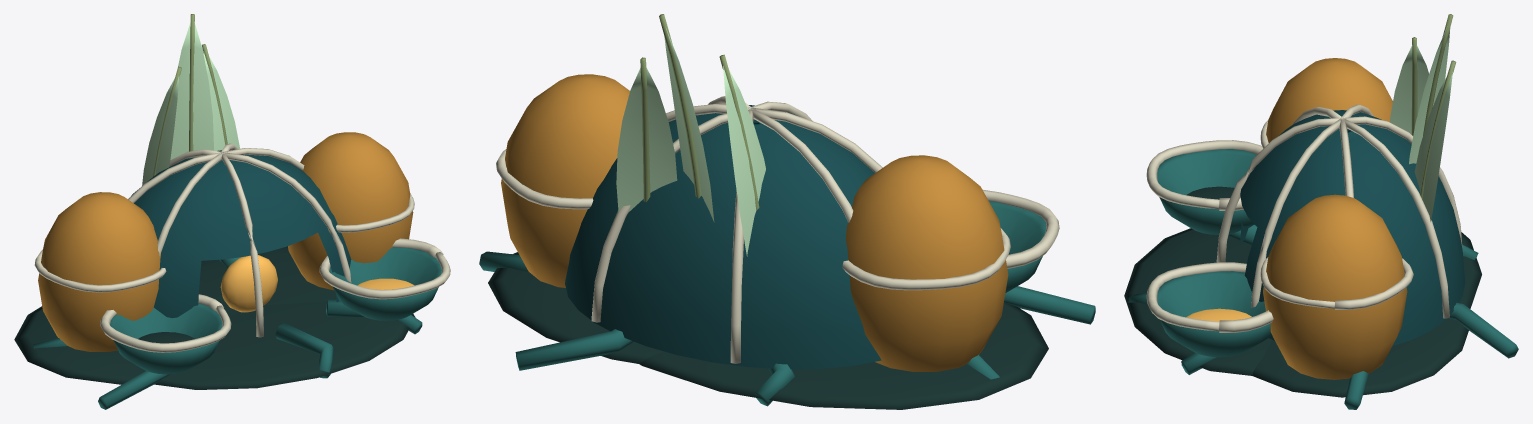
Rendered from building_resin_curing_a.obj.
3 renders of one model, left to right at view 1: azimuth 30°, elevation 25°; view 2: azimuth 150°, elevation 25°; view 3: azimuth 270°, elevation 25°, orthographic. The views are drawn at different scales.
Parts seen in each view (by area): view 1: inhabited_shell.025, processing_side_sac.008, irregular_anchoring_lobe.101, processing_side_sac.009, irregular_anchoring_lobe.099, open_living_cup.102, open_living_cup.101, bent_living_blade.112, irregular_anchoring_lobe.100, warm_occupied_cavity.025, grown_cup_lip.102, grown_cup_lip.101 (+15 smaller); view 2: inhabited_shell.025, processing_side_sac.008, processing_side_sac.009, irregular_anchoring_lobe.099, irregular_anchoring_lobe.100, bent_living_blade.113, bent_living_blade.111, anchoring_root.232, open_living_cup.101, bent_living_blade.112, sac_growth_band.008, anchoring_root.235 (+11 smaller); view 3: processing_side_sac.009, inhabited_shell.025, irregular_anchoring_lobe.101, irregular_anchoring_lobe.100, open_living_cup.102, processing_side_sac.008, open_living_cup.101, grown_cup_lip.102, grown_cup_lip.101, bent_living_blade.113, growth_seam.176, sac_growth_band.009 (+15 smaller).
Boxes of the visible parts, left/top/right/bottom form: inhabited_shell.025: left=131, top=149, right=351, bottom=318; processing_side_sac.008: left=38, top=192, right=160, bottom=351; irregular_anchoring_lobe.101: left=154, top=302, right=415, bottom=389; processing_side_sac.009: left=288, top=132, right=413, bottom=290; irregular_anchoring_lobe.099: left=14, top=278, right=238, bottom=384; open_living_cup.102: left=329, top=247, right=441, bottom=320; open_living_cup.101: left=110, top=303, right=222, bottom=374; bent_living_blade.112: left=170, top=22, right=213, bottom=159; irregular_anchoring_lobe.100: left=200, top=247, right=336, bottom=305; warm_occupied_cavity.025: left=220, top=255, right=277, bottom=312; grown_cup_lip.102: left=319, top=238, right=450, bottom=299; grown_cup_lip.101: left=100, top=294, right=231, bottom=352; inhabited_shell.025: left=565, top=105, right=881, bottom=369; processing_side_sac.008: left=846, top=155, right=1008, bottom=371; processing_side_sac.009: left=501, top=74, right=629, bottom=287; irregular_anchoring_lobe.099: left=639, top=302, right=1048, bottom=409; irregular_anchoring_lobe.100: left=488, top=252, right=663, bottom=363; bent_living_blade.113: left=616, top=67, right=677, bottom=211; bent_living_blade.111: left=723, top=66, right=765, bottom=256; anchoring_root.232: left=515, top=329, right=633, bottom=370; open_living_cup.101: left=989, top=201, right=1046, bottom=292; bent_living_blade.112: left=664, top=28, right=714, bottom=222; sac_growth_band.008: left=842, top=228, right=1010, bottom=290; anchoring_root.235: left=1004, top=286, right=1095, bottom=324; processing_side_sac.009: left=1263, top=194, right=1407, bottom=379; inhabited_shell.025: left=1240, top=110, right=1464, bottom=345; irregular_anchoring_lobe.101: left=1124, top=228, right=1271, bottom=375; irregular_anchoring_lobe.100: left=1252, top=318, right=1468, bottom=397; open_living_cup.102: left=1157, top=271, right=1271, bottom=357; processing_side_sac.008: left=1266, top=58, right=1392, bottom=142; open_living_cup.101: left=1157, top=149, right=1256, bottom=234; grown_cup_lip.102: left=1146, top=262, right=1273, bottom=332; grown_cup_lip.101: left=1146, top=140, right=1263, bottom=210; bent_living_blade.113: left=1414, top=72, right=1452, bottom=221; growth_seam.176: left=1341, top=118, right=1449, bottom=318; sac_growth_band.009: left=1260, top=257, right=1413, bottom=309.
Size of the model in its own units: 3.59 by 2.37 by 2.73.
